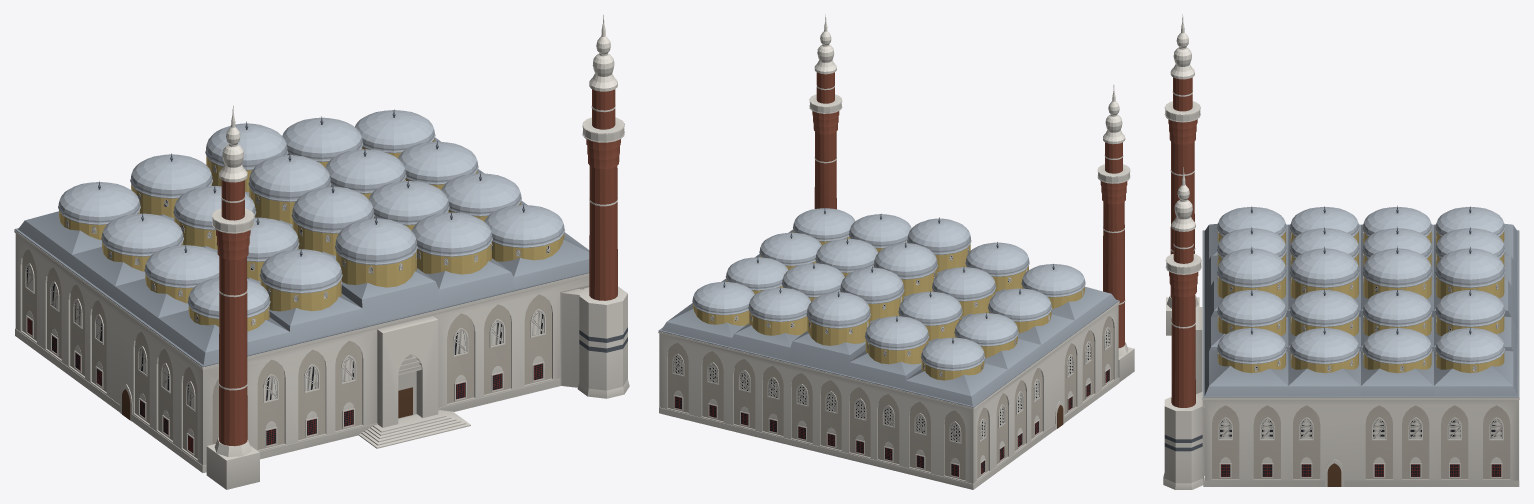
The model's file is ulu-cami_v02b.glb.
3 views of the same model, side by side, from view 1: azimuth 30°, elevation 25°; view 2: azimuth 150°, elevation 25°; view 3: azimuth 270°, elevation 25° (orthographic). The views are drawn at different scales.
Visible parts, largest first — view 1: Kubbeler_19, Cephe_Kuzey, Cati, Cephe_Dogu, Minare_1, Minare_2, Tac_Kapi, Sadirvan_Kubbe, Mermer_Bant, Silme_Ust, Kasnak_Pencereleri; view 2: Kubbeler_19, Cephe_Guney, Cati, Cephe_Dogu, Minare_2, Minare_1, Mermer_Bant, Sadirvan_Kubbe, Silme_Ust; view 3: Kubbeler_19, Cephe_Bati, Cati, Minare_1, Minare_2, Sadirvan_Kubbe, Mermer_Bant, Silme_Ust, Kasnak_Pencereleri, Tac_Kapi, Govde, Kapi_Bati.
Part boxes in pixels (x1=…): Kubbeler_19: x1=58, y1=110, x2=564, y2=331; Cephe_Kuzey: x1=202, y1=276, x2=589, y2=465; Cati: x1=14, y1=137, x2=589, y2=367; Cephe_Dogu: x1=16, y1=234, x2=201, y2=464; Minare_1: x1=561, y1=15, x2=629, y2=398; Minare_2: x1=206, y1=105, x2=259, y2=489; Tac_Kapi: x1=358, y1=316, x2=470, y2=448; Sadirvan_Kubbe: x1=291, y1=186, x2=374, y2=255; Mermer_Bant: x1=15, y1=328, x2=560, y2=472; Silme_Ust: x1=14, y1=230, x2=589, y2=369; Kasnak_Pencereleri: x1=66, y1=148, x2=550, y2=325; Kubbeler_19: x1=692, y1=208, x2=1085, y2=380; Cephe_Guney: x1=659, y1=333, x2=973, y2=483; Cati: x1=658, y1=229, x2=1119, y2=407; Cephe_Dogu: x1=974, y1=304, x2=1117, y2=483; Minare_2: x1=1097, y1=85, x2=1134, y2=382; Minare_1: x1=809, y1=14, x2=842, y2=209; Mermer_Bant: x1=659, y1=377, x2=1119, y2=489; Sadirvan_Kubbe: x1=873, y1=243, x2=937, y2=296; Silme_Ust: x1=658, y1=301, x2=1119, y2=409; Kubbeler_19: x1=1217, y1=206, x2=1505, y2=373; Cephe_Bati: x1=1204, y1=400, x2=1517, y2=480; Cati: x1=1202, y1=223, x2=1519, y2=397; Minare_1: x1=1163, y1=167, x2=1204, y2=489; Minare_2: x1=1164, y1=14, x2=1200, y2=335; Sadirvan_Kubbe: x1=1289, y1=248, x2=1359, y2=298; Mermer_Bant: x1=1203, y1=400, x2=1519, y2=486; Silme_Ust: x1=1202, y1=231, x2=1519, y2=399; Kasnak_Pencereleri: x1=1217, y1=232, x2=1498, y2=371; Tac_Kapi: x1=1195, y1=307, x2=1202, y2=394; Govde: x1=1212, y1=418, x2=1510, y2=478; Kapi_Bati: x1=1325, y1=459, x2=1344, y2=486.
Bounding box in the file's own units: 70.31 × 61.1 × 62.7.
13 materials, 2 textured.
